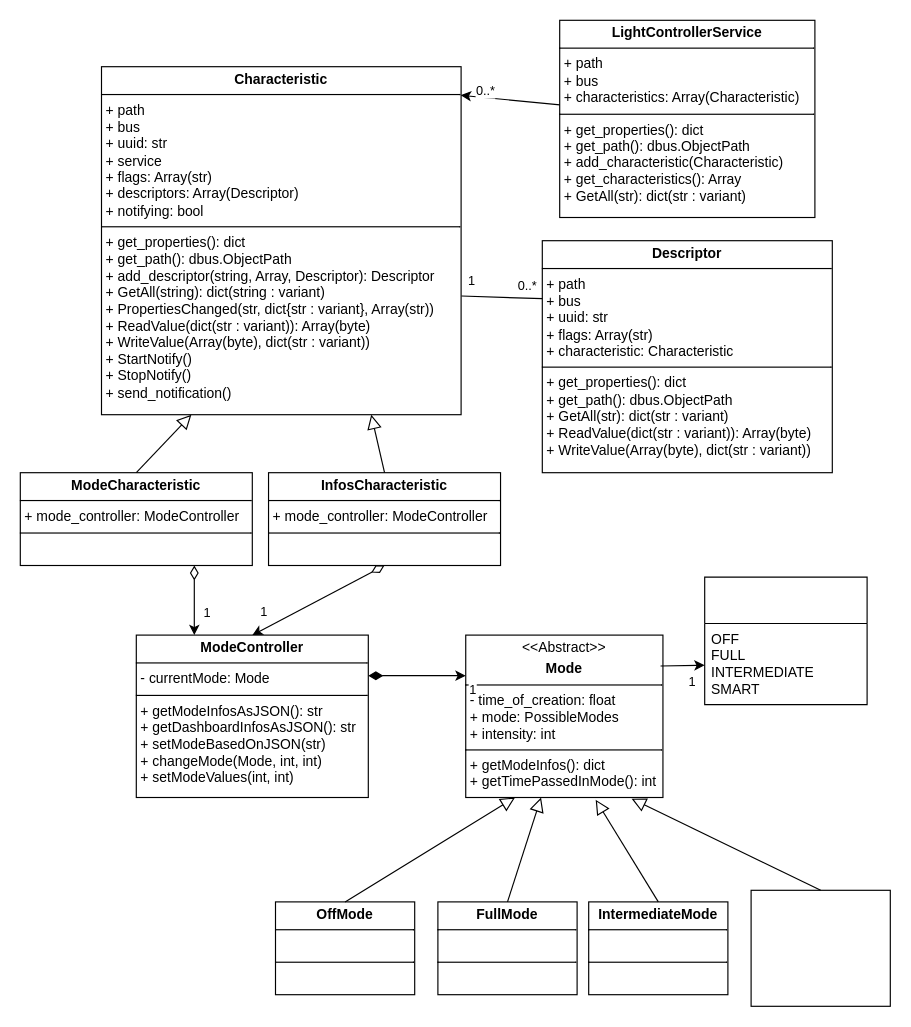
This 911x1027 diagram has some shape labels left out. The shapes that lost their labels are listed below. From the top down, each one's box as (x1, y1, x2, y2) in pixels, then its label:
(704, 576, 867, 705): <<Enumeration>> PossibleModes
(750, 889, 890, 1006): SmartMode MIN_TIME_ON: int MAX_TIME_ON: int + time_on: int
